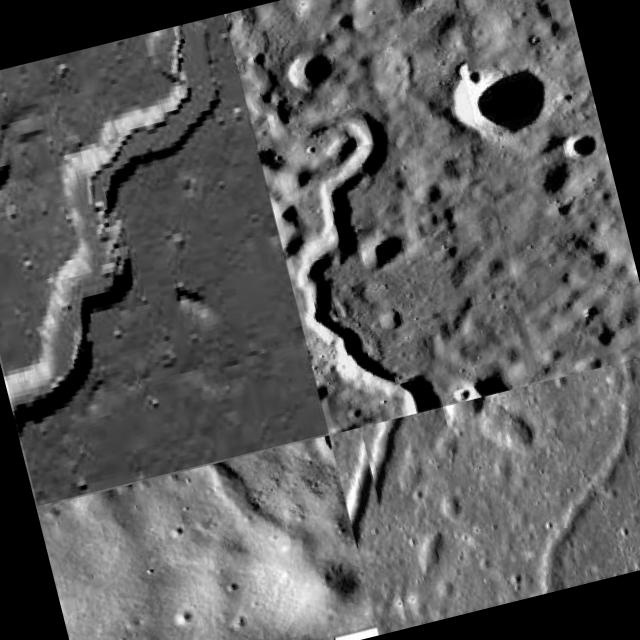crater: (0, 13, 330, 505), (242, 6, 541, 432), (371, 354, 640, 623), (331, 390, 546, 564), (110, 446, 312, 604)
